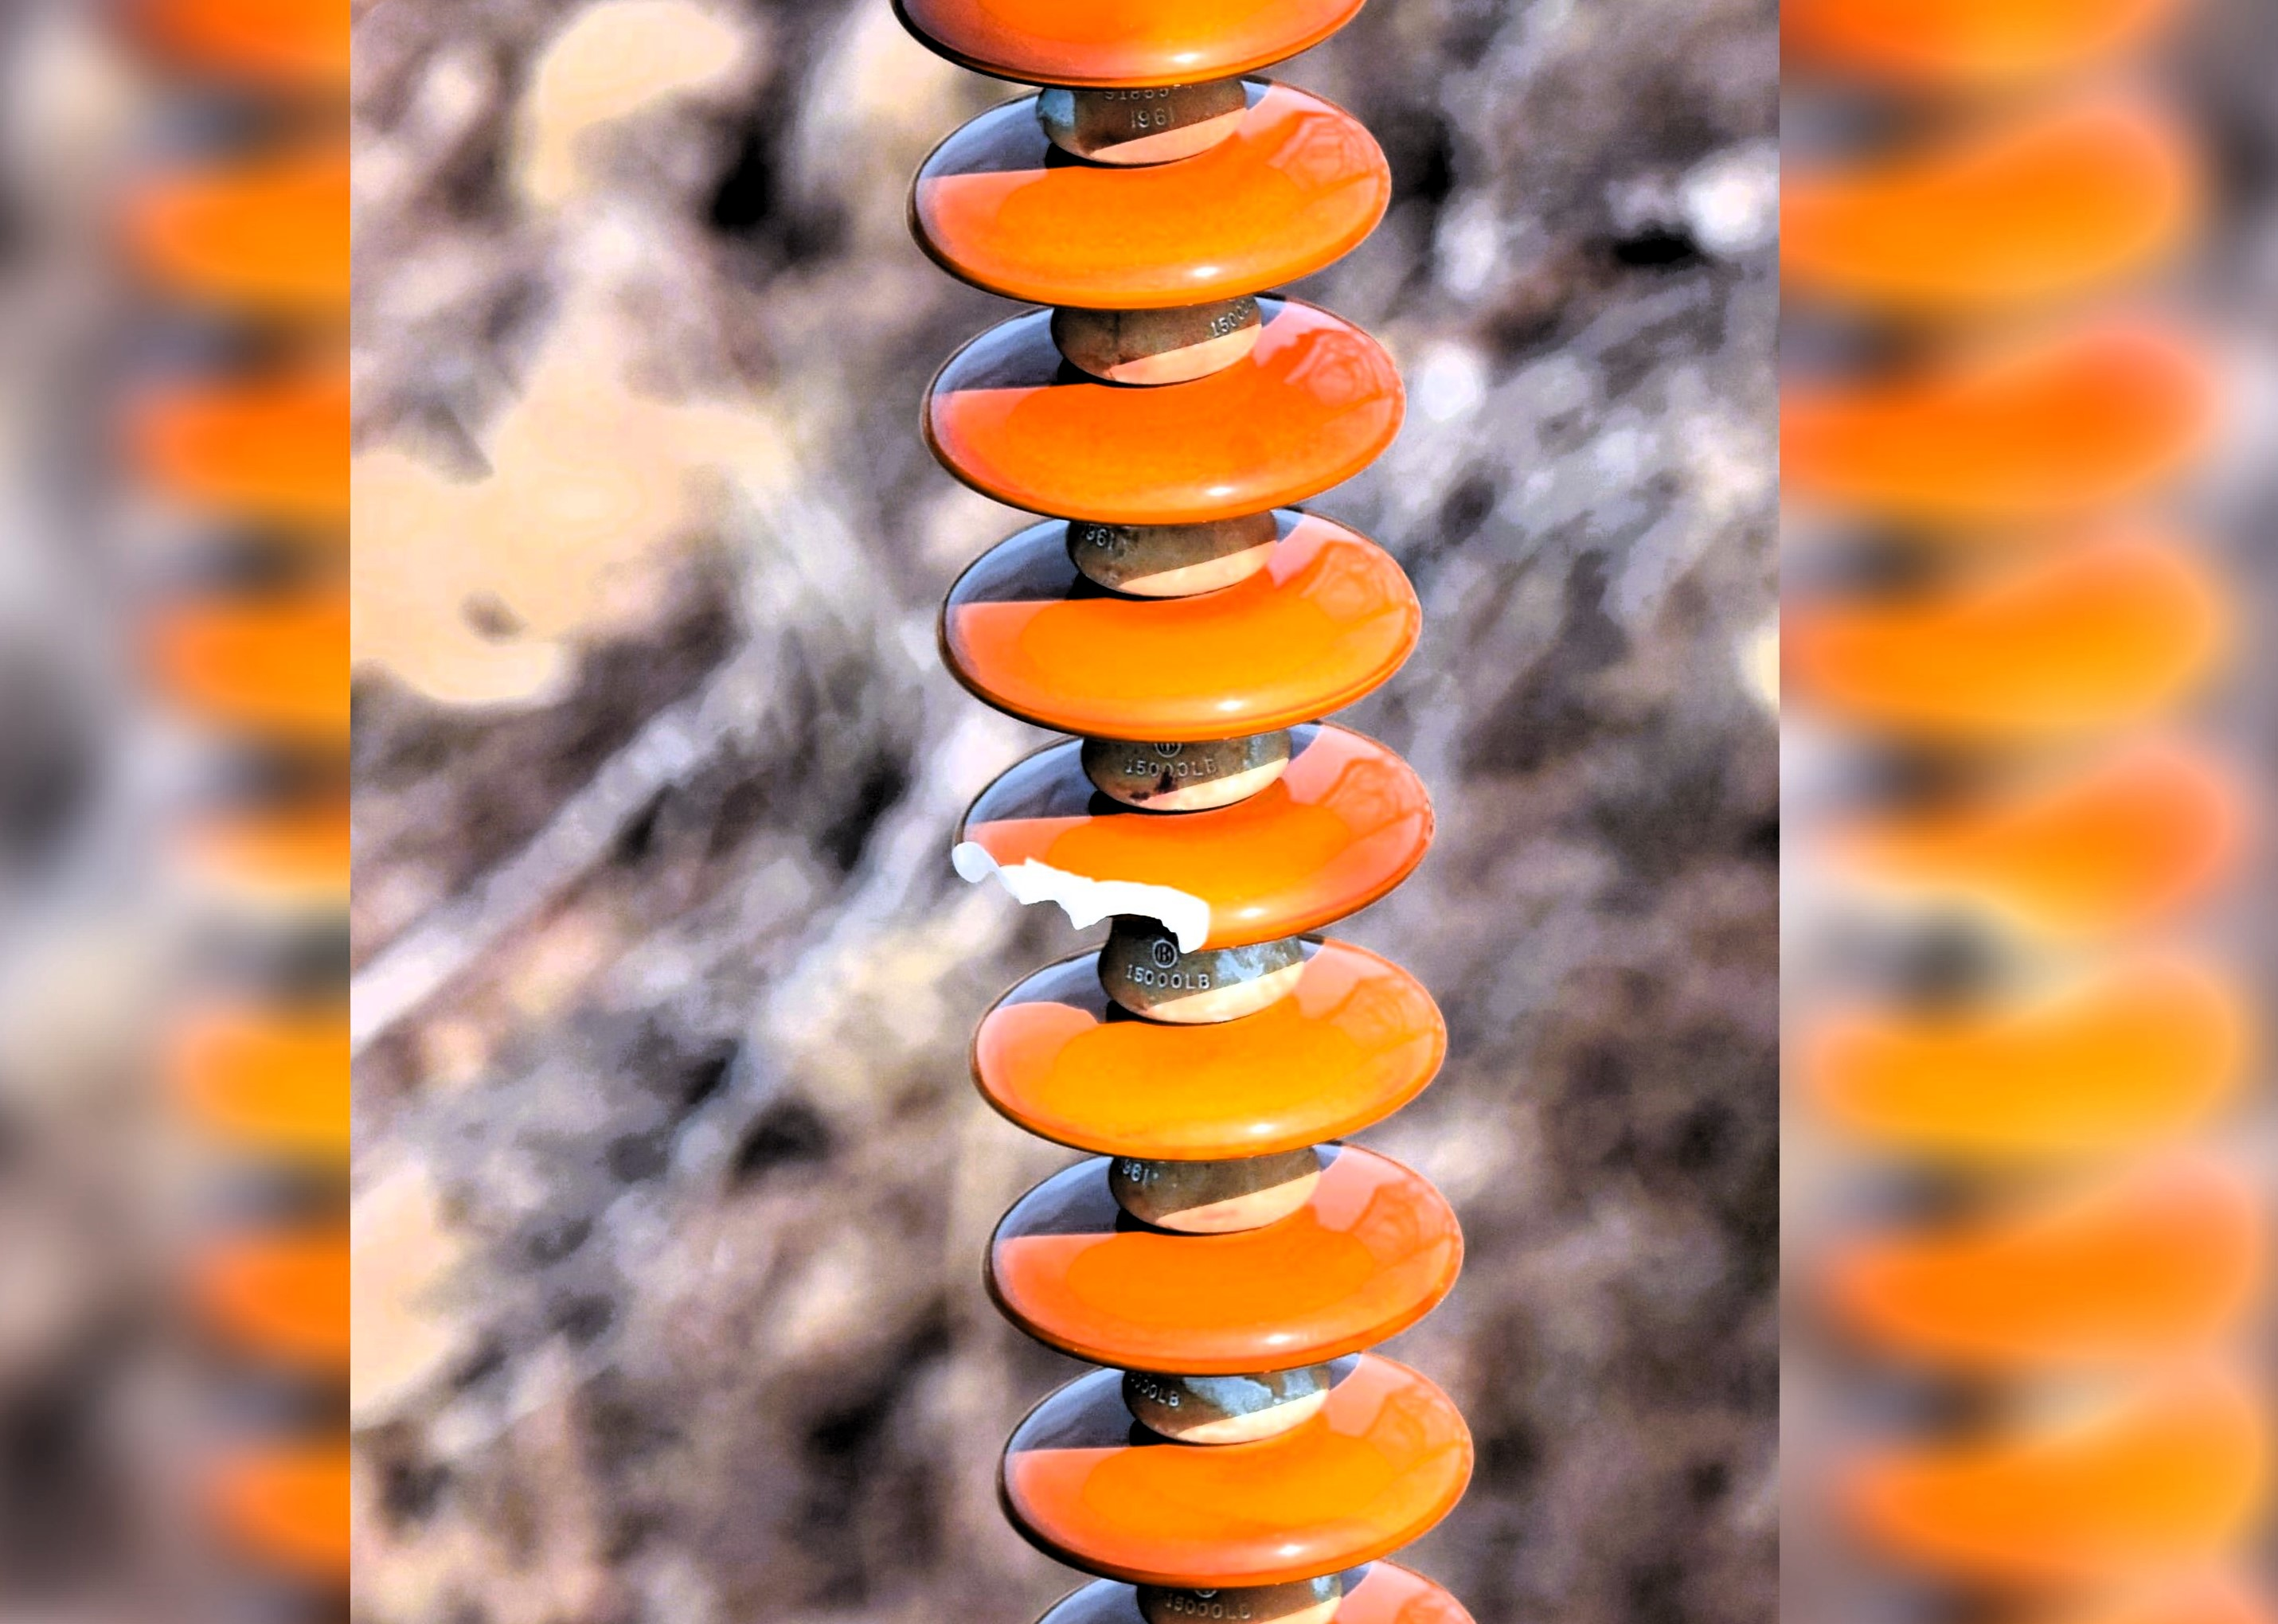insulator breakage: (930, 710, 1448, 961)
